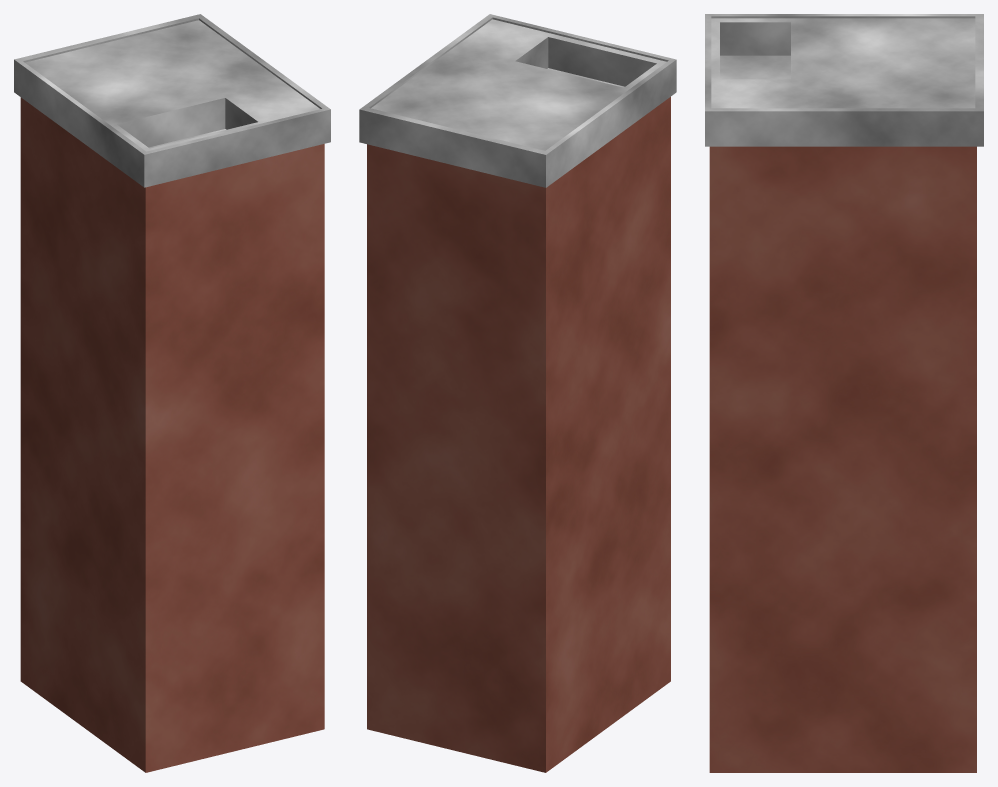
Rendered from 41firstblock.FBX.
3 views of the same model, side by side, from view 1: azimuth 30°, elevation 25°; view 2: azimuth 150°, elevation 25°; view 3: azimuth 270°, elevation 25° (orthographic). The views are drawn at different scales.
Visible parts, largest first — view 1: Box001; view 2: Box001; view 3: Box001.
Boxes of the visible parts, <box> form: Box001: <box>14,14,330,772</box>; Box001: <box>359,14,676,772</box>; Box001: <box>705,14,983,772</box>.
Size of the model in its own units: 780 by 2480 by 944.
1 material, 1 textured.
